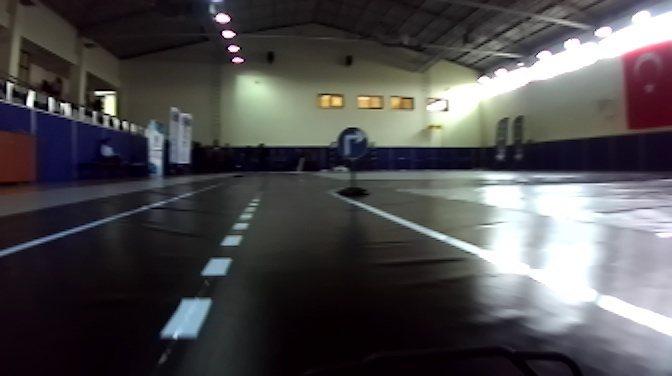saga_donus: (333, 127, 371, 163)
